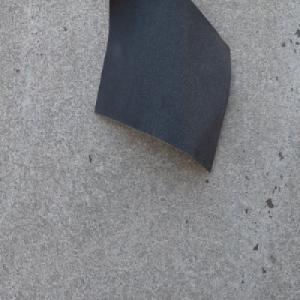PaintChip: (93, 0, 231, 174)
